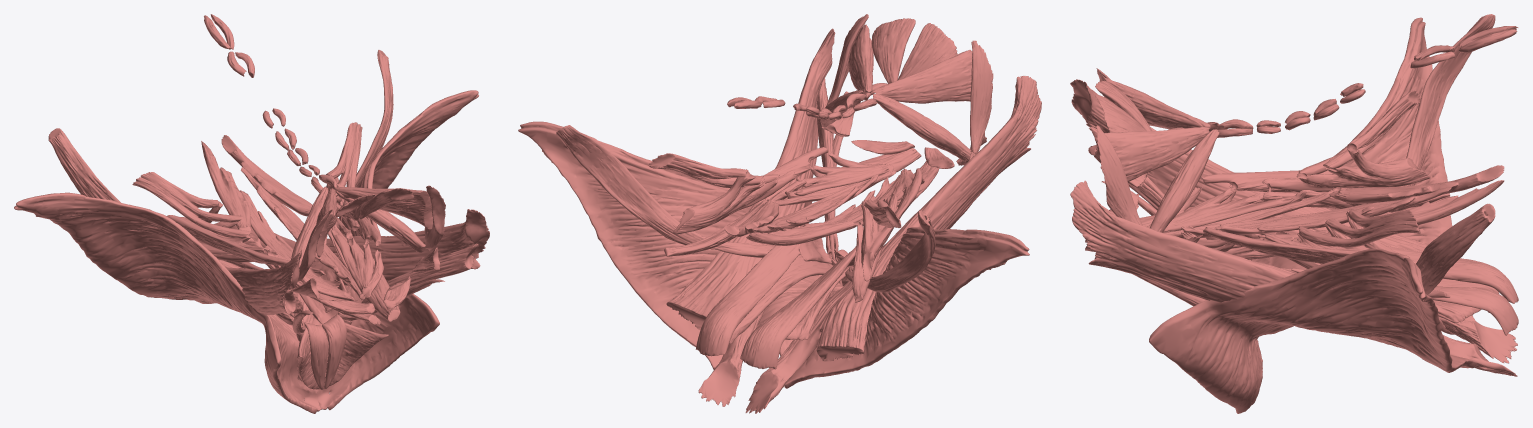
File: neck__muscular.ee68efa3fa.glb
3 views of the same model, side by side, from view 1: azimuth 30°, elevation 25°; view 2: azimuth 150°, elevation 25°; view 3: azimuth 270°, elevation 25° (orthographic). The views are drawn at different scales.
Visible parts, largest first — view 1: FMA45739, FMA45740, FMA13409, FMA13408, FMA13388, FMA13348, FMA13390, FMA46286, FMA46284, FMA46288, FMA46287, FMA32531 (+25 smaller); view 2: FMA45740, FMA13408, FMA45739, FMA13409, FMA13349, FMA13351, FMA13350, FMA13391, FMA32530, FMA13348, FMA32534, FMA32536 (+23 smaller); view 3: FMA45740, FMA13409, FMA45739, FMA13408, FMA13390, FMA13348, FMA32531, FMA46285, FMA13391, FMA13349, FMA13389, FMA46283 (+19 smaller).
Part boxes in pixels (x1=…): FMA45739: x1=14, y1=192, x2=321, y2=413; FMA45740: x1=290, y1=90, x2=478, y2=410; FMA13409: x1=326, y1=209, x2=489, y2=285; FMA13408: x1=226, y1=249, x2=302, y2=315; FMA13388: x1=132, y1=172, x2=253, y2=238; FMA13348: x1=48, y1=128, x2=292, y2=325; FMA13390: x1=167, y1=201, x2=289, y2=265; FMA46286: x1=241, y1=167, x2=365, y2=299; FMA46284: x1=331, y1=229, x2=383, y2=297; FMA46288: x1=221, y1=135, x2=312, y2=216; FMA46287: x1=201, y1=141, x2=250, y2=234; FMA32531: x1=335, y1=187, x2=433, y2=230; FMA45740: x1=518, y1=121, x2=843, y2=369; FMA13408: x1=745, y1=76, x2=1041, y2=413; FMA45739: x1=779, y1=227, x2=1029, y2=388; FMA13409: x1=666, y1=28, x2=835, y2=406; FMA13349: x1=556, y1=125, x2=799, y2=257; FMA13351: x1=695, y1=226, x2=800, y2=356; FMA13350: x1=740, y1=246, x2=856, y2=369; FMA13391: x1=673, y1=147, x2=828, y2=234; FMA32530: x1=871, y1=50, x2=972, y2=103; FMA13348: x1=845, y1=210, x2=935, y2=292; FMA32534: x1=970, y1=40, x2=993, y2=154; FMA32536: x1=872, y1=94, x2=971, y2=161; FMA45740: x1=1149, y1=249, x2=1476, y2=413; FMA13409: x1=1070, y1=180, x2=1517, y2=376; FMA45739: x1=1206, y1=17, x2=1475, y2=369; FMA13408: x1=1070, y1=79, x2=1517, y2=363; FMA13390: x1=1201, y1=144, x2=1430, y2=192; FMA13348: x1=1352, y1=14, x2=1495, y2=238; FMA32531: x1=1104, y1=127, x2=1210, y2=181; FMA46285: x1=1164, y1=187, x2=1451, y2=238; FMA13391: x1=1203, y1=210, x2=1416, y2=263; FMA13349: x1=1416, y1=203, x2=1495, y2=294; FMA13389: x1=1298, y1=209, x2=1420, y2=247; FMA46283: x1=1147, y1=186, x2=1294, y2=232.
Bounding box in the file's own units: 273 × 177 × 188.
